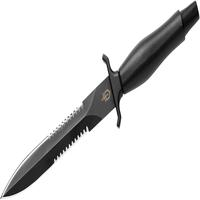knife: (1, 18, 192, 199)
